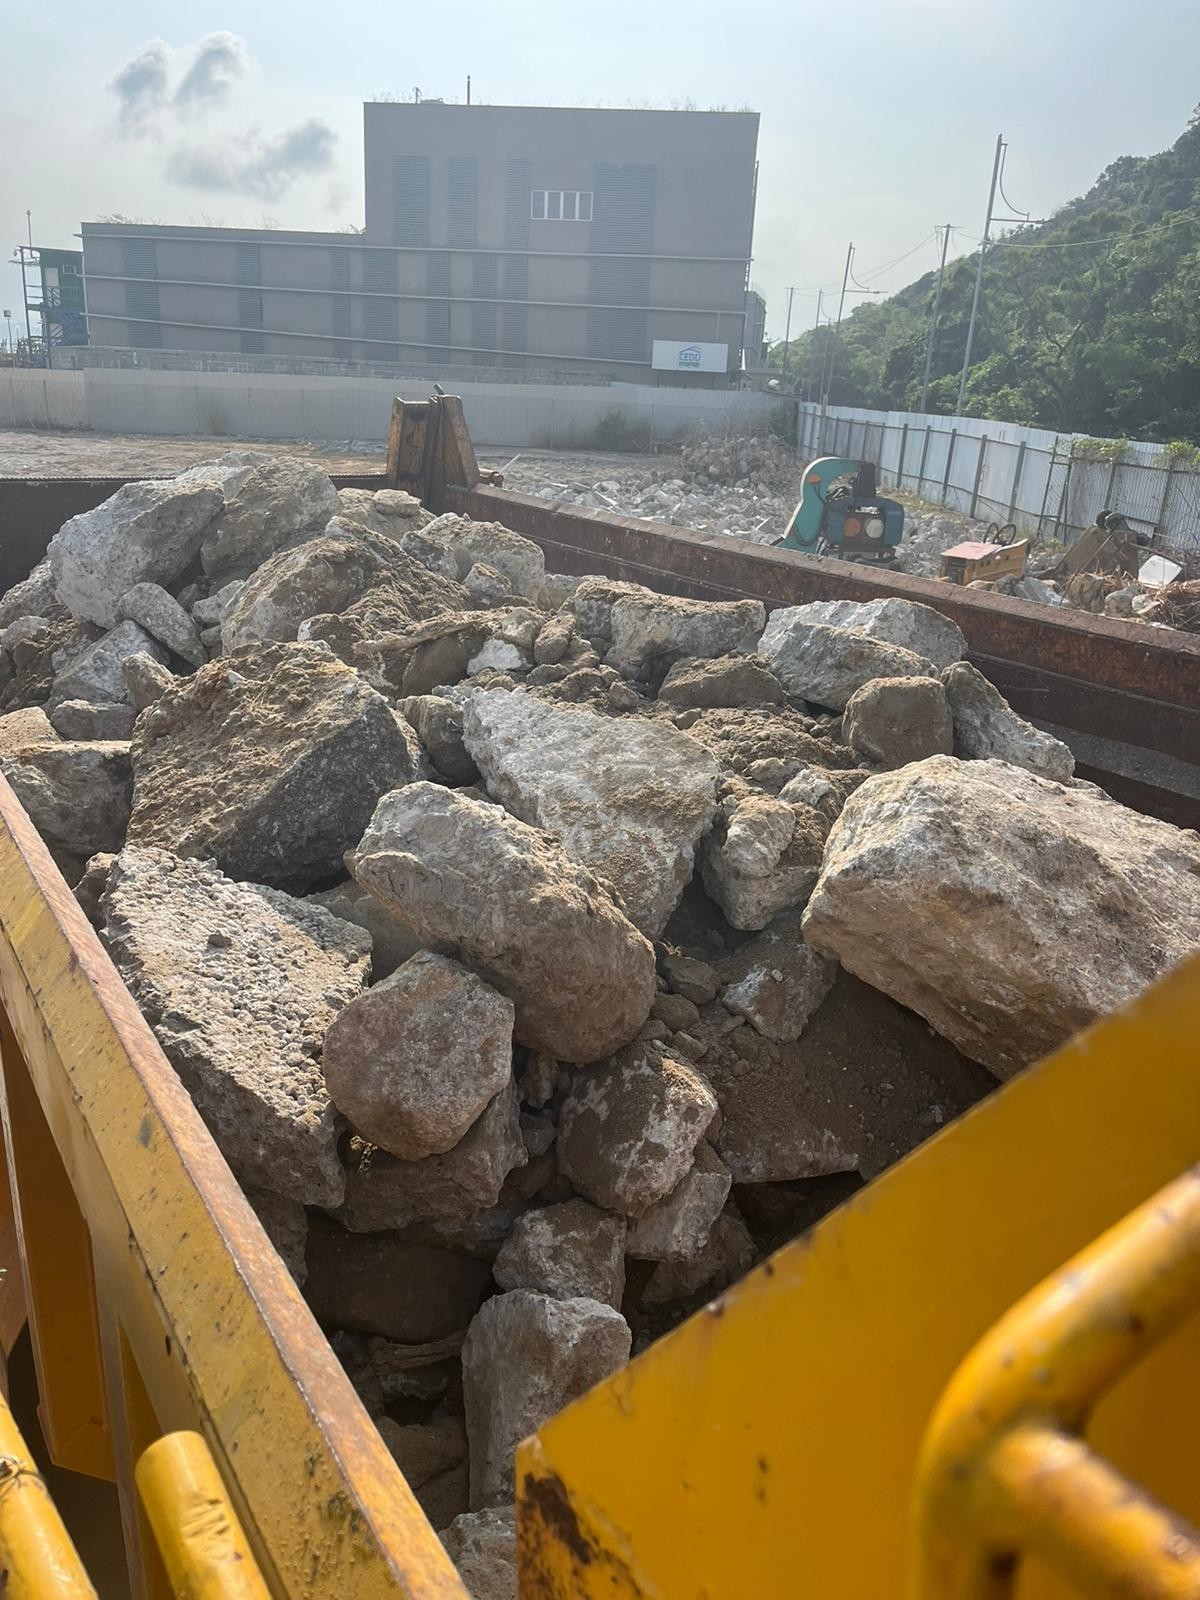dry: (18, 460, 1195, 1455)
